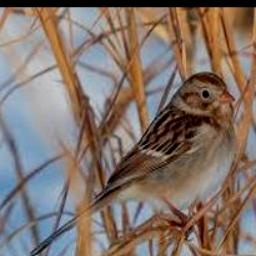Sparrow: (30, 71, 236, 256)
